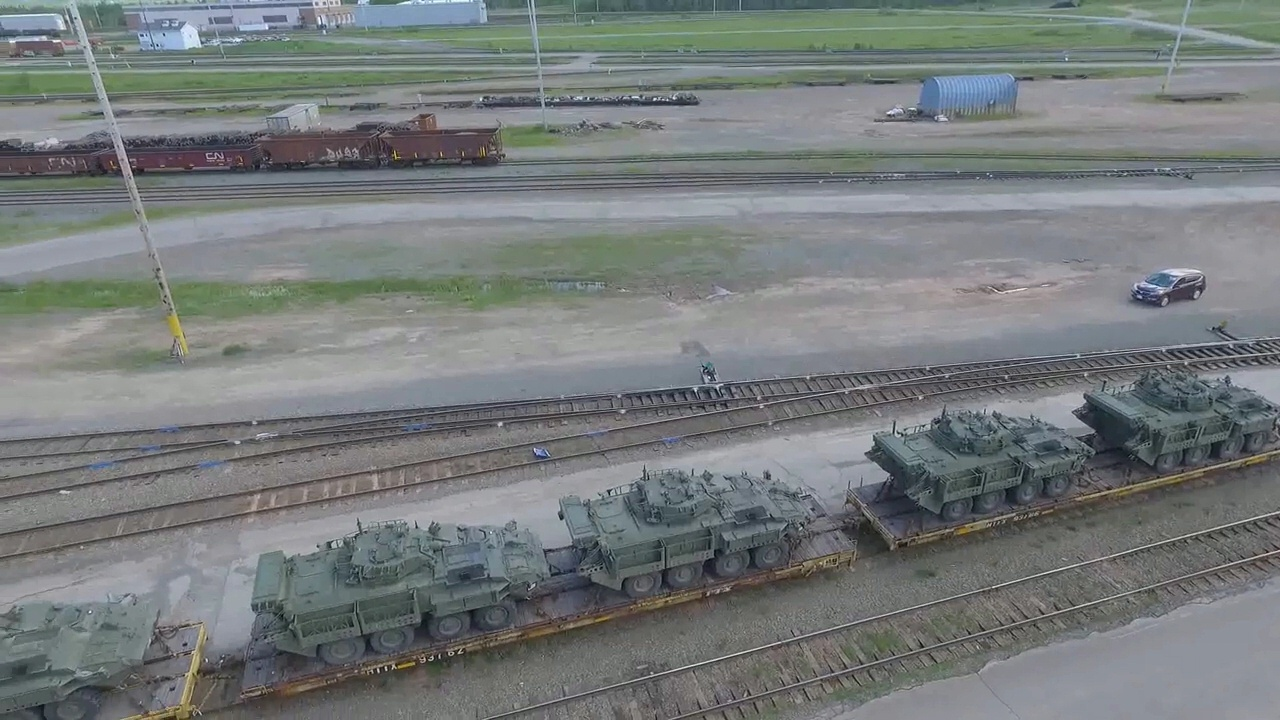araba: (1123, 265, 1212, 308)
tank: (249, 517, 552, 668), (559, 467, 818, 598), (865, 407, 1093, 525), (1075, 370, 1278, 479), (1, 590, 163, 720)
